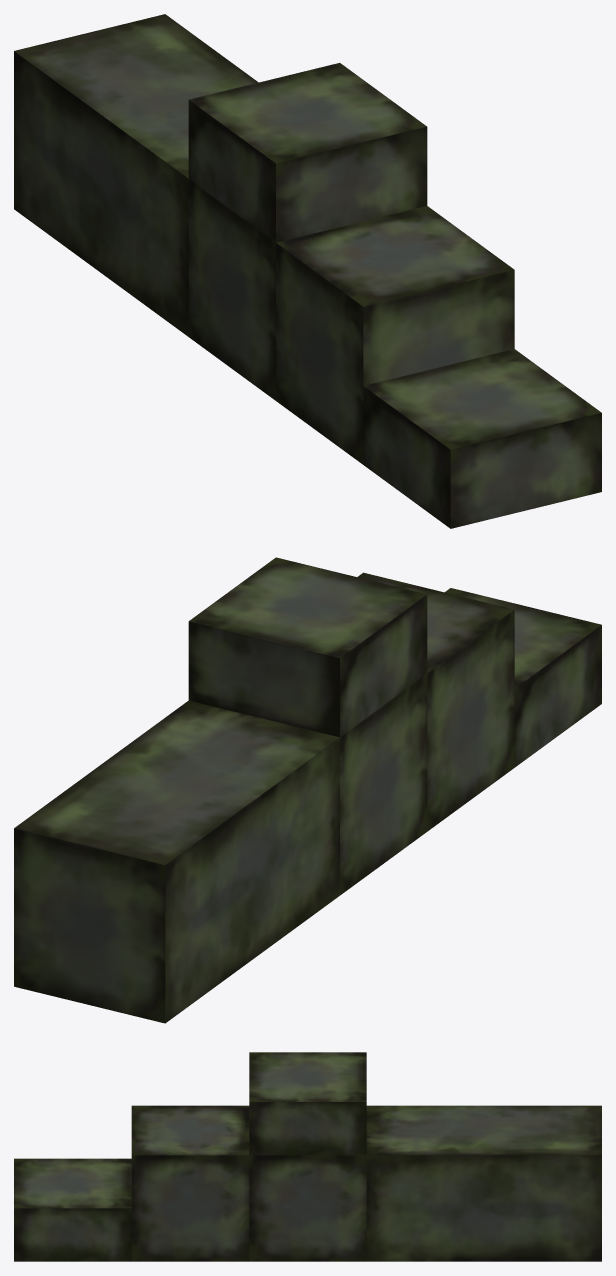
The model's file is wall-small-broken-02.fbx.
The picture shows the model from 3 angles, top to bottom: view 1: azimuth 30°, elevation 25°; view 2: azimuth 150°, elevation 25°; view 3: azimuth 270°, elevation 25°; orthographic projection. The views are drawn at different scales.
Parts seen in each view (by area): view 1: wall_small_2; view 2: wall_small_2; view 3: wall_small_2.
Boxes of the visible parts, x1=… form: wall_small_2: x1=14, y1=14, x2=601, y2=528; wall_small_2: x1=14, y1=557, x2=601, y2=1023; wall_small_2: x1=14, y1=1052, x2=601, y2=1261.
Size of the model in its own units: 100 by 150 by 500.
